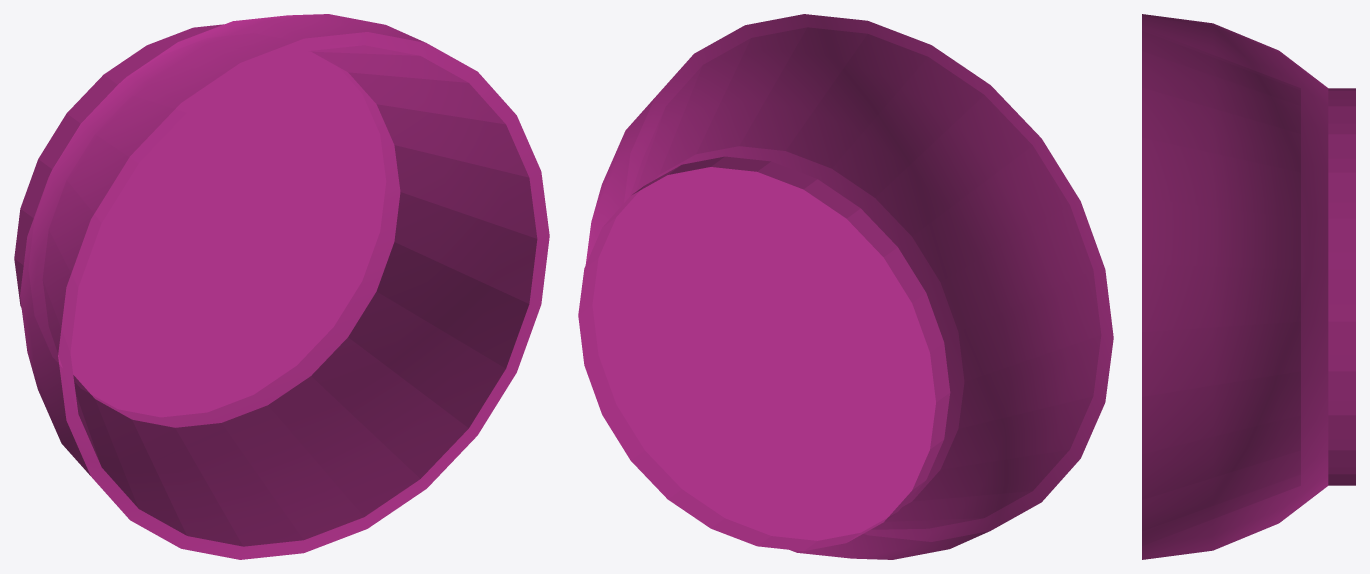
Rendered from model_scale.obj.
The picture shows the model from 3 angles, left to right: view 1: azimuth 30°, elevation 25°; view 2: azimuth 150°, elevation 25°; view 3: azimuth 270°, elevation 25°; orthographic projection. The views are drawn at different scales.
Visible parts, largest first — view 1: mesh1_mesh1-geometry; view 2: mesh1_mesh1-geometry; view 3: mesh1_mesh1-geometry.
Part boxes in pixels (x1,y1,x2,y2): mesh1_mesh1-geometry: (14,14,549,559); mesh1_mesh1-geometry: (578,14,1113,559); mesh1_mesh1-geometry: (1142,14,1355,559).
Bounding box in the file's own units: 0.1473 × 0.1473 × 0.0575.
